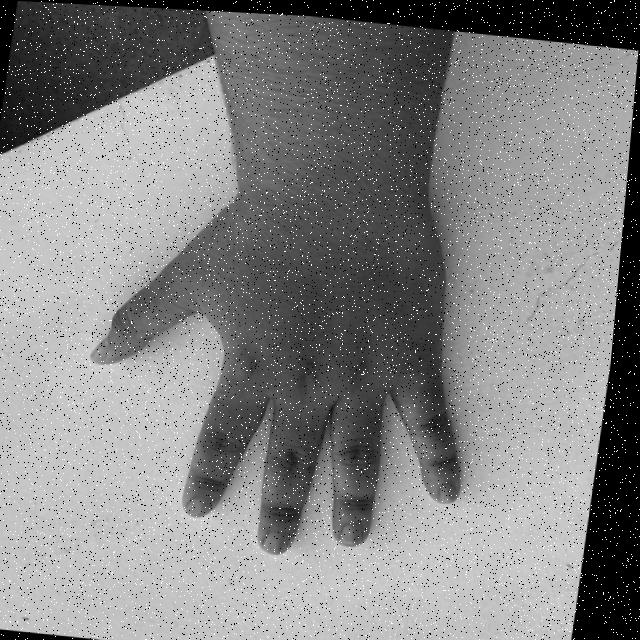hand: (69, 189, 509, 571)
